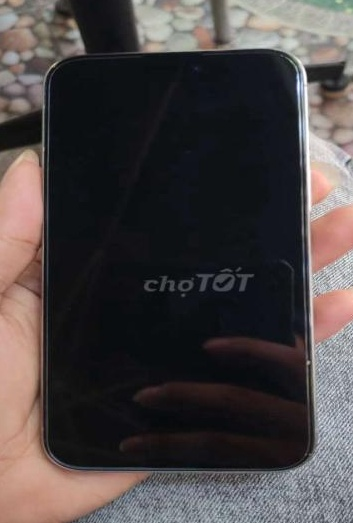scratch: (303, 357, 314, 366), (301, 453, 318, 458)
